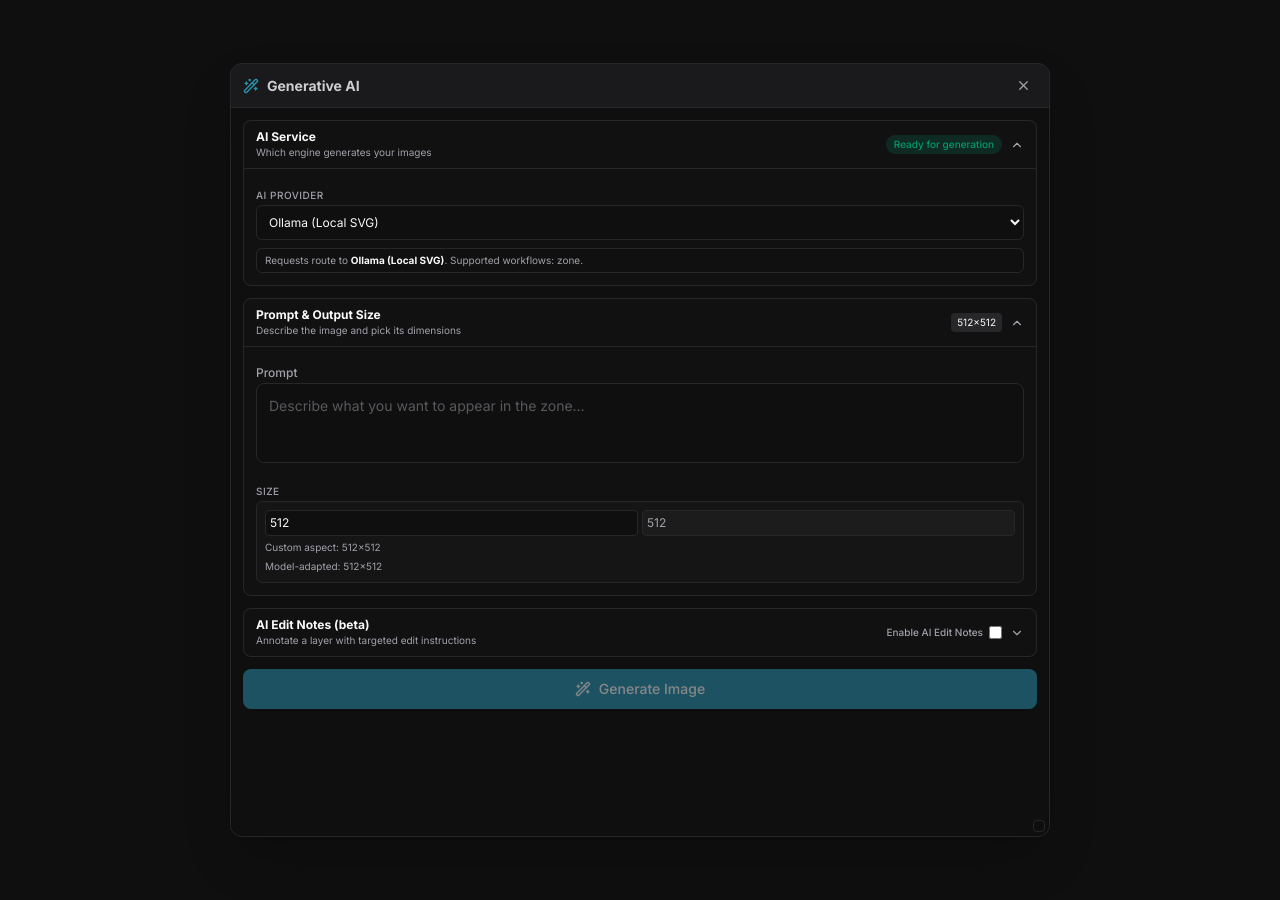
Test: ImageGeneratorModal › prompts to install a missing Ollama model and runs the install request
The width and height of the screenshot is (1280, 900).
In the text box with placeholder "Describe what you want to appear in the zone…": (640, 423) [256,383,1024,463], type "A geometric fox poster"
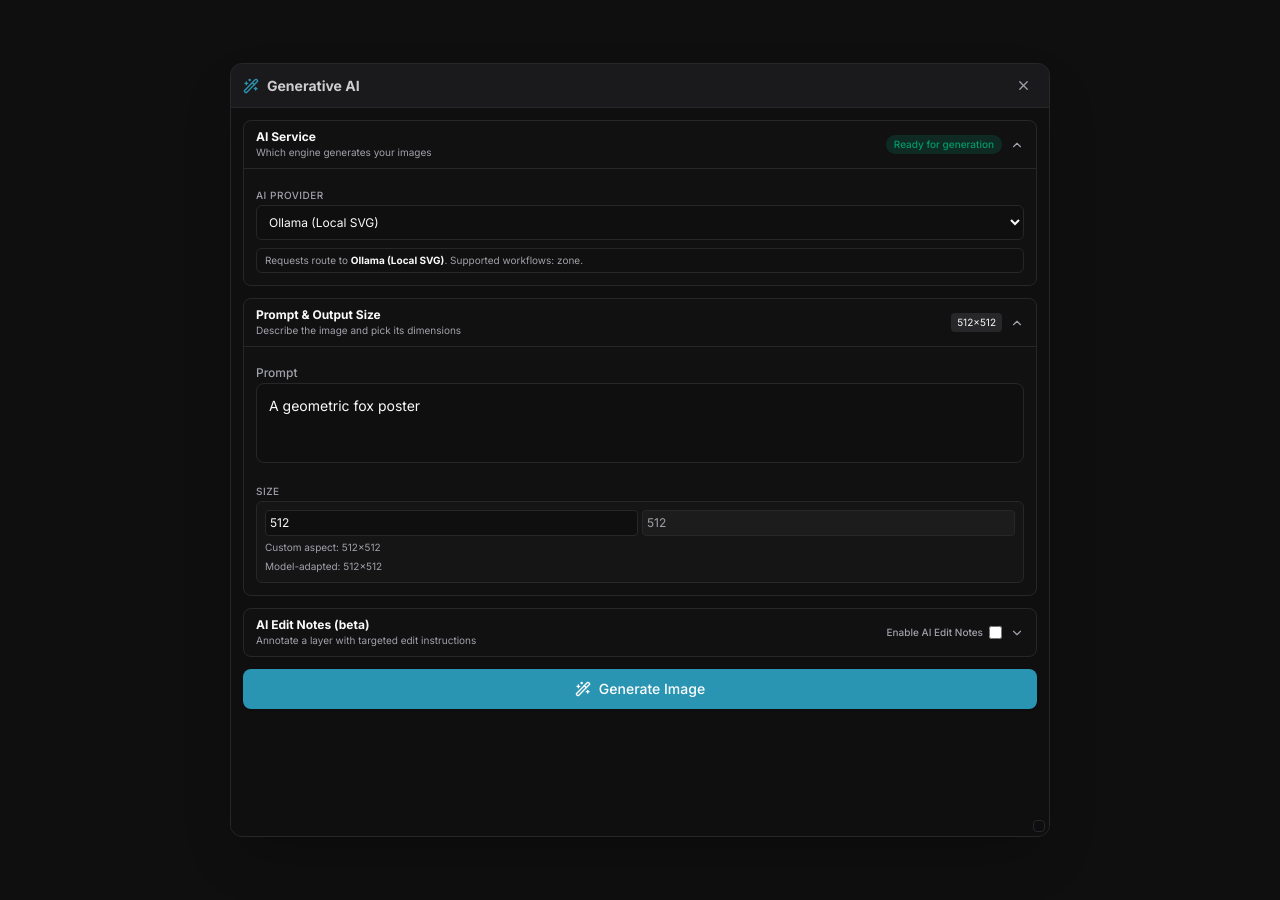
Click the button "Generate Image": (640, 689) [243,669,1037,709]
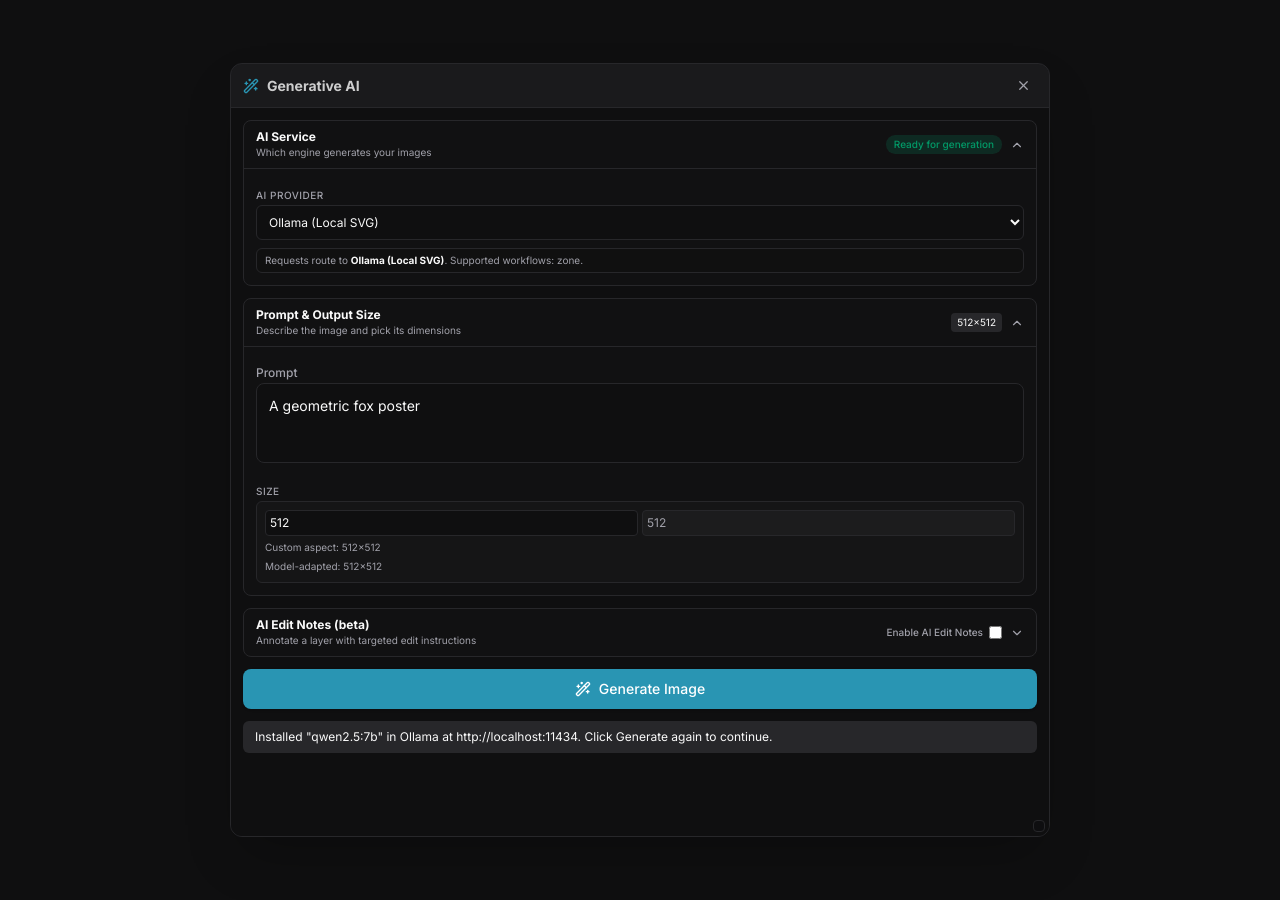
Result: the text "Installed \"qwen2.5:7b\" in Ollama" is shown at [255,729,772,744]
